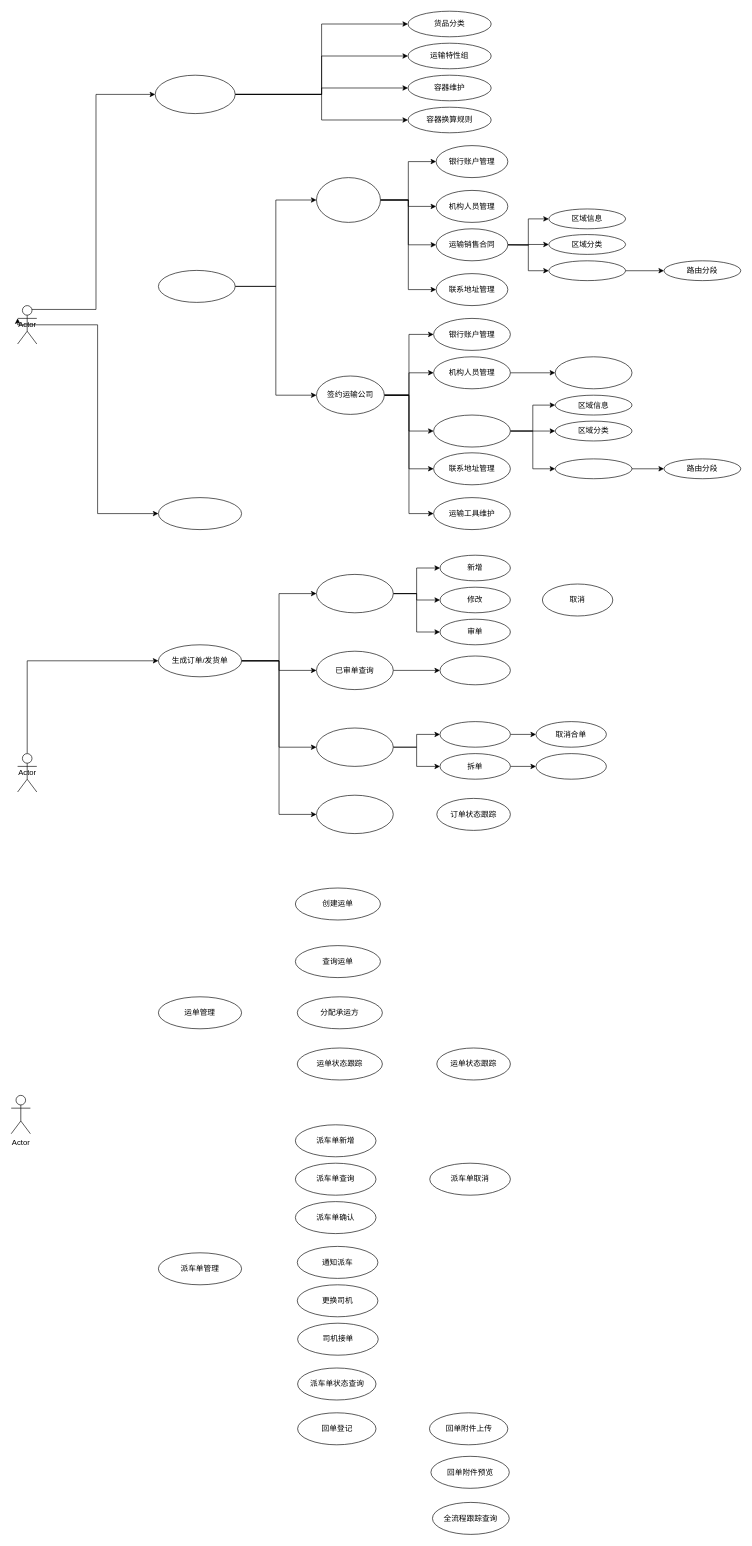
Some shapes in this 752 by 1546 pixel diagram are drawn without their labels. Here are the shapes that lost their labels. From the top down, the centre of each, then its label:
the point at 195,94: 货品维护
the point at 348,199: 运输委托客户
the point at 196,286: 系统用户管理
the point at 587,270: 合同报价路由
the point at 593,372: 司机维护
the point at 471,430: 运输采购合同
the point at 593,468: 运输执行路线
the point at 200,513: 计费规则维护
the point at 354,593: 已创建查询
the point at 474,670: 接单
the point at 354,746: 已接单查询
the point at 474,734: 合单
the point at 570,766: 取消拆单
the point at 354,814: 查询
